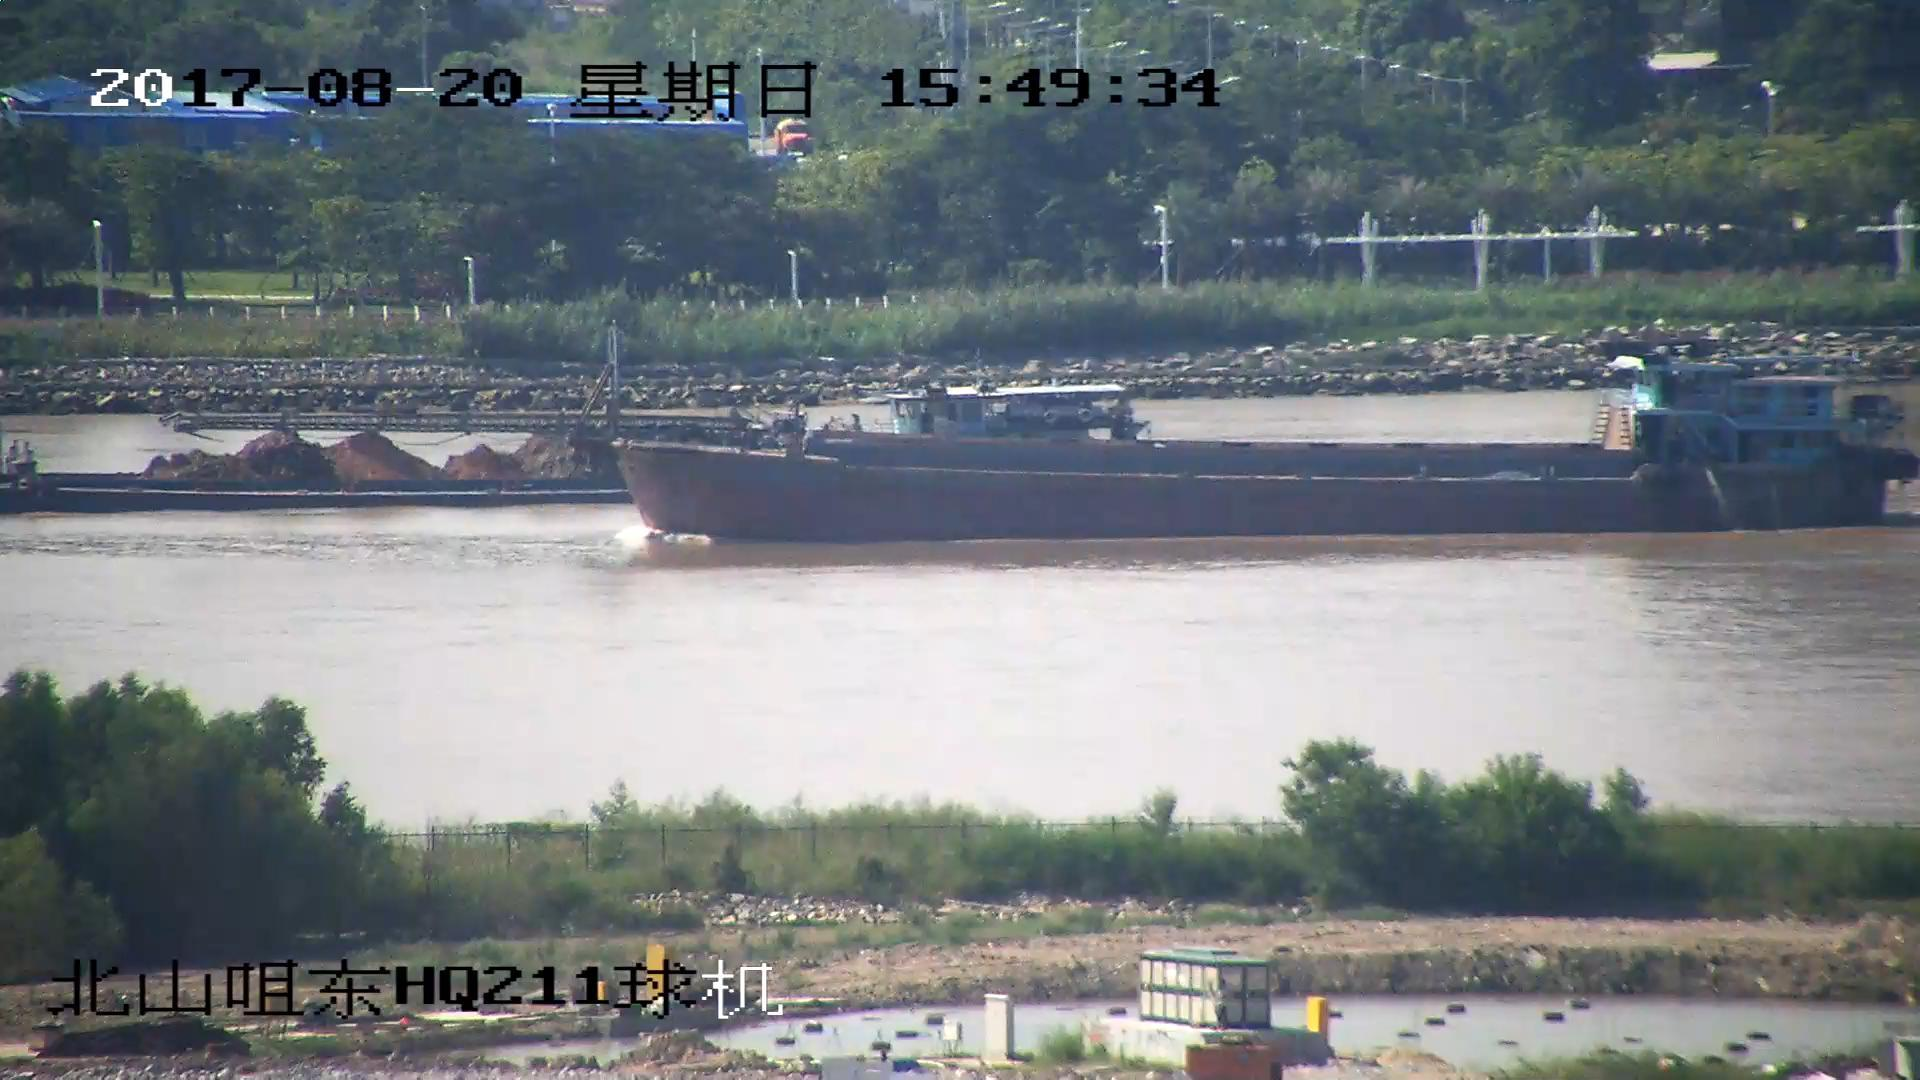Ship: (193, 349, 1920, 538), (3, 378, 1156, 508)
